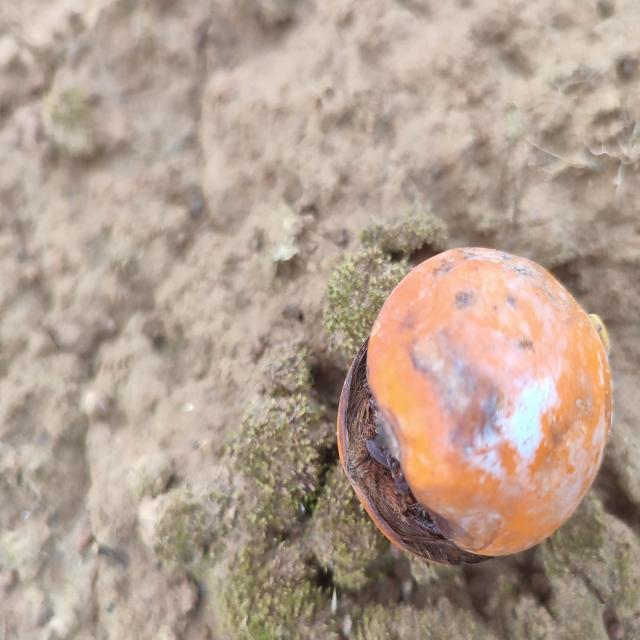damaged: (339, 248, 614, 564)
